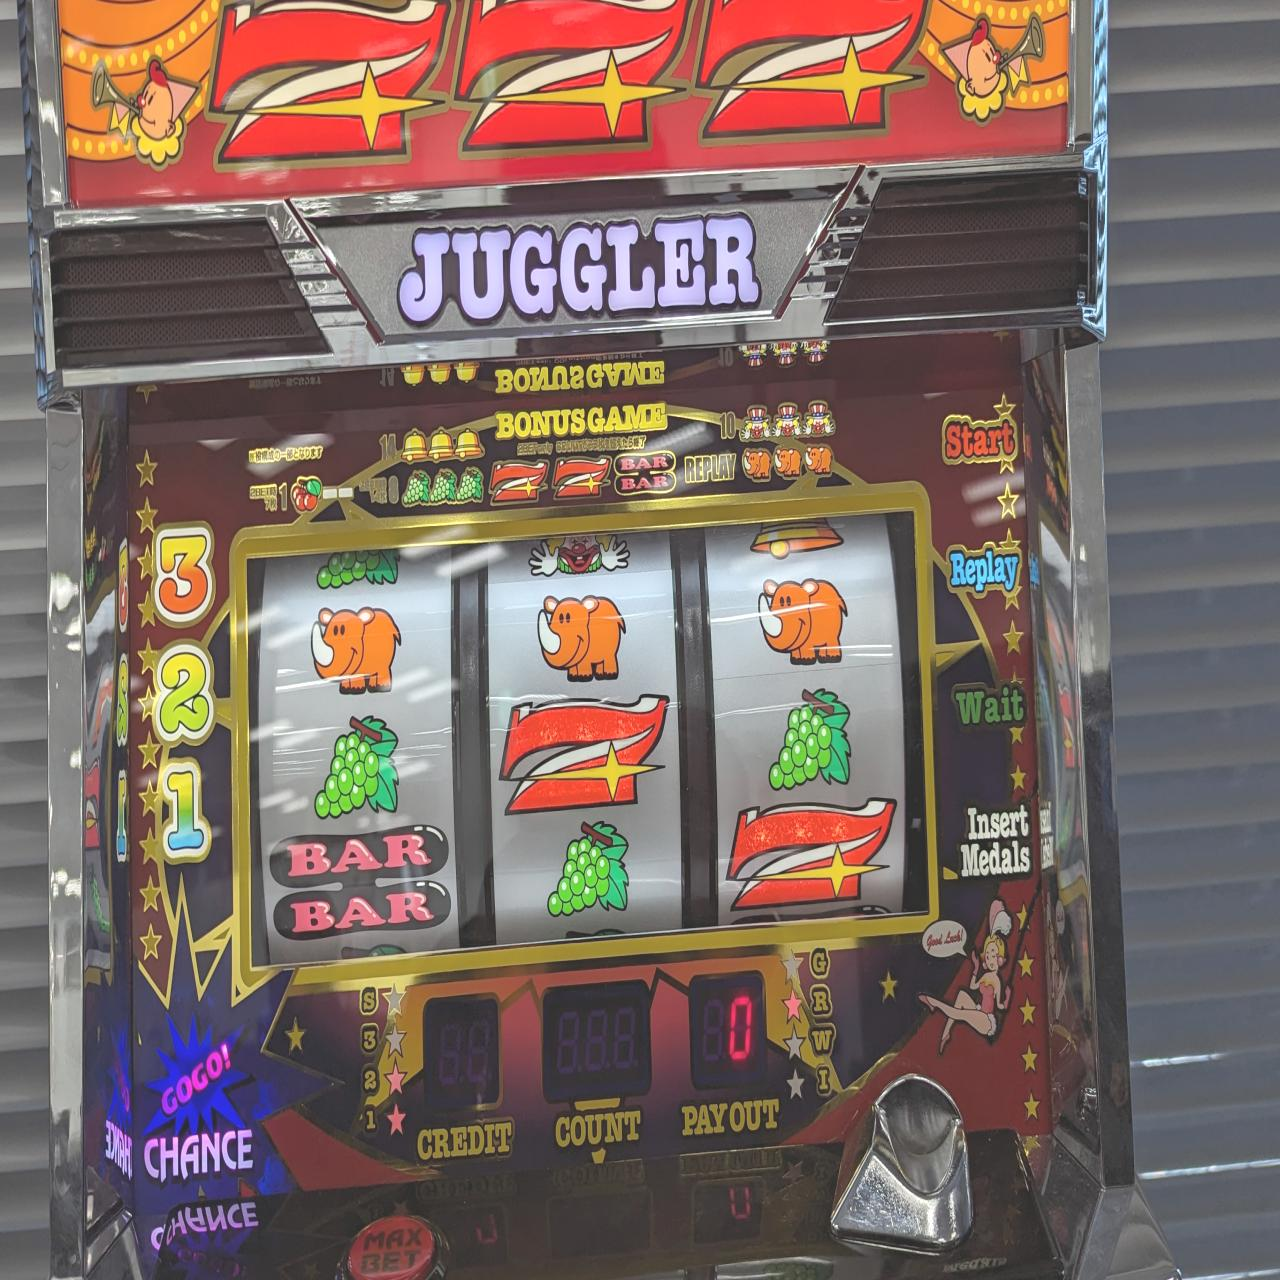7: (490, 693, 675, 826), (726, 796, 901, 915)
8: (304, 590, 408, 708), (532, 584, 631, 689), (756, 574, 855, 676)
Display: (239, 508, 926, 956)
bar: (264, 825, 457, 951)
grape: (525, 829, 646, 927), (765, 670, 858, 797), (313, 716, 404, 825)
